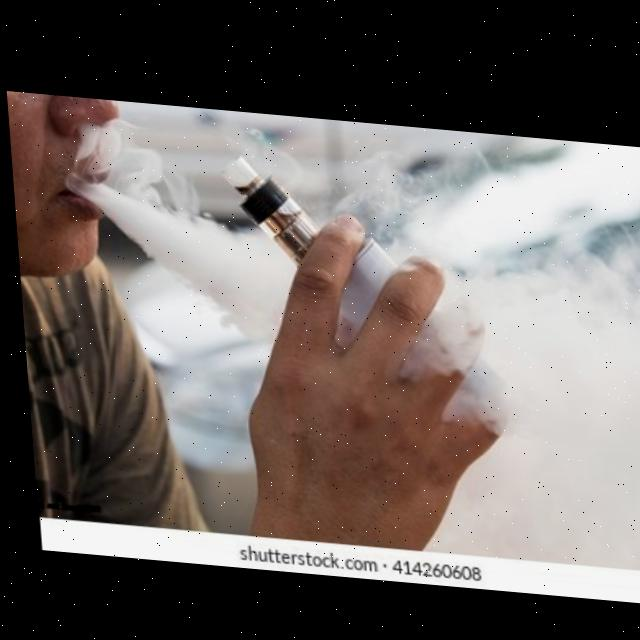vape: (219, 147, 396, 324)
